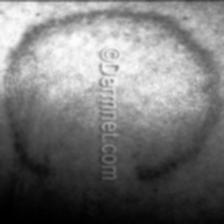Unclassified: (11, 2, 219, 180), (129, 10, 223, 178)
